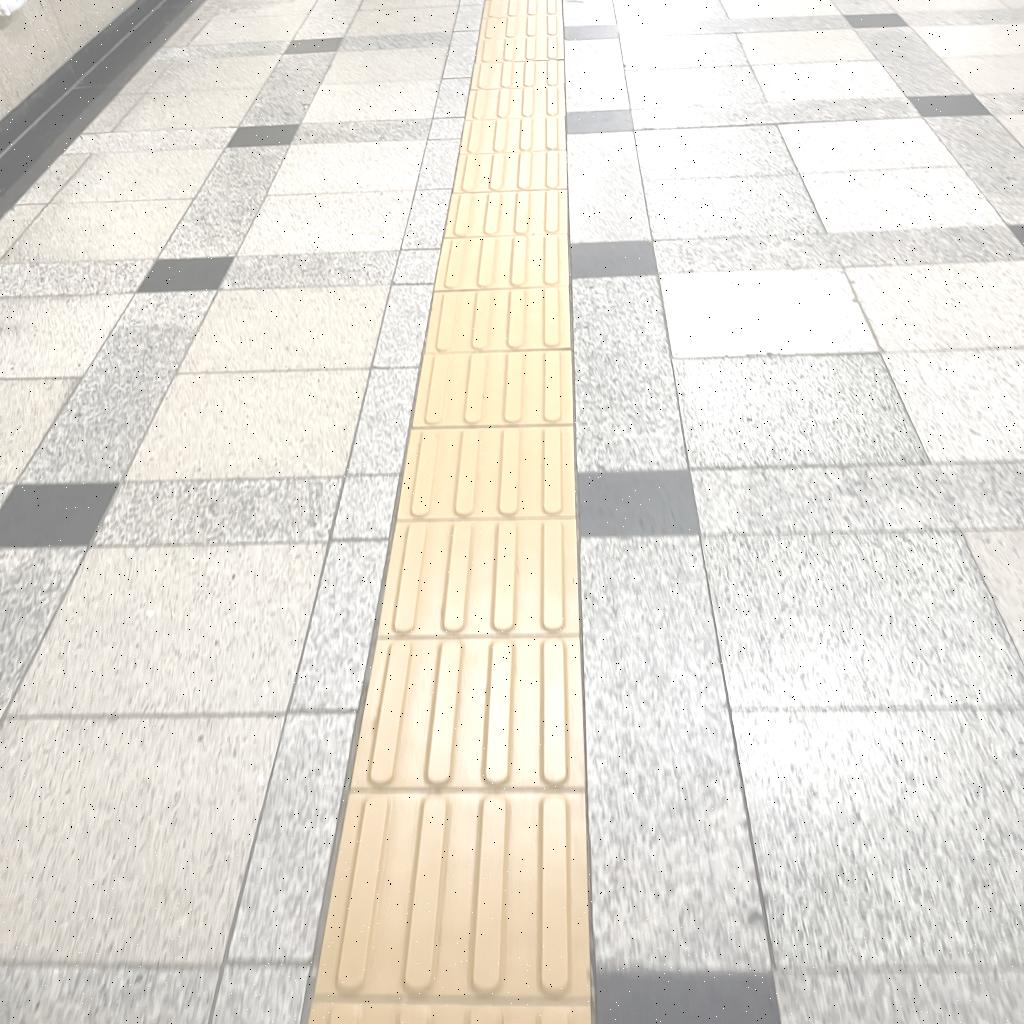Straight block normal: (316, 793, 588, 995), (350, 637, 585, 788), (378, 520, 578, 635), (396, 425, 575, 519), (413, 351, 572, 426), (424, 288, 570, 352), (433, 234, 568, 290), (443, 191, 567, 237)
